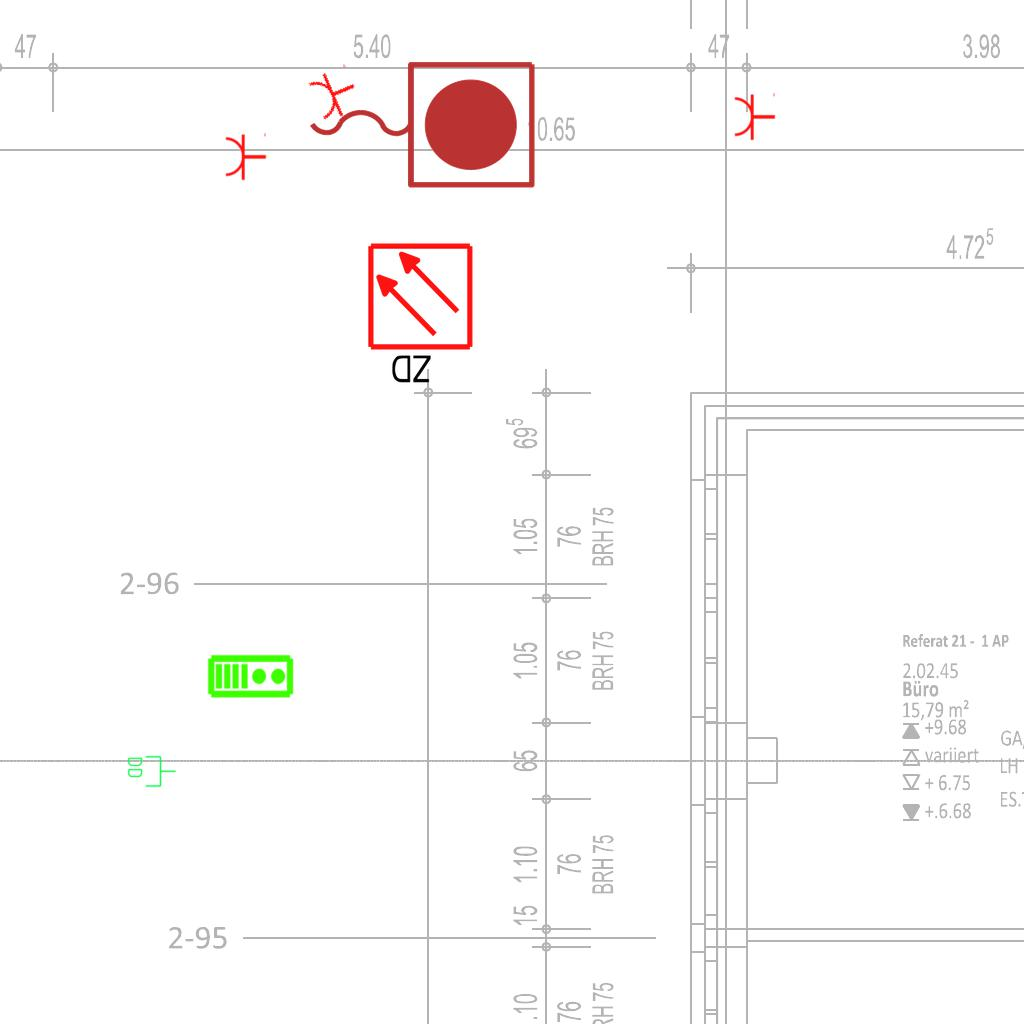Datenanschluss_zweifach: (126, 754, 177, 788)
Gegensprechanlage_mit_Video: (207, 652, 295, 699)
Schukosteckdose_einfach: (304, 61, 365, 125), (733, 91, 776, 141), (224, 131, 267, 181)
ZD_Melder_in_Zwischendecke_mit_Revisionsoeffnung_mind_40_x_40_cm: (365, 241, 479, 390)
Zugtaster: (299, 51, 543, 195)
